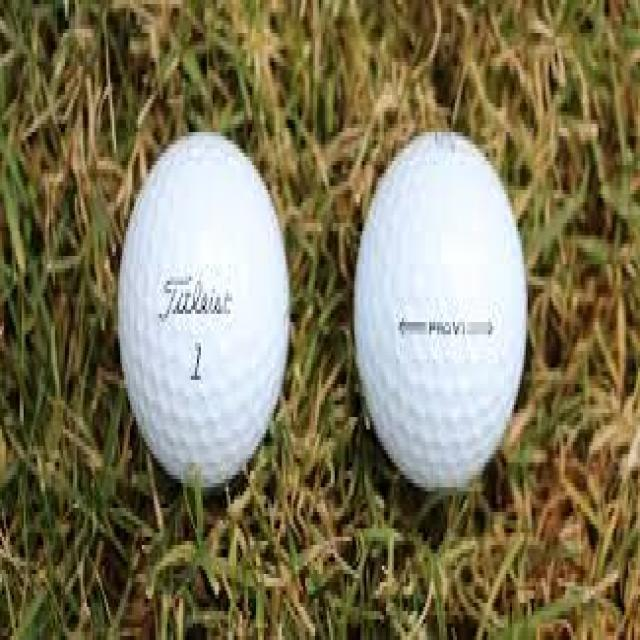golfball: (342, 90, 544, 528), (110, 120, 306, 492)
